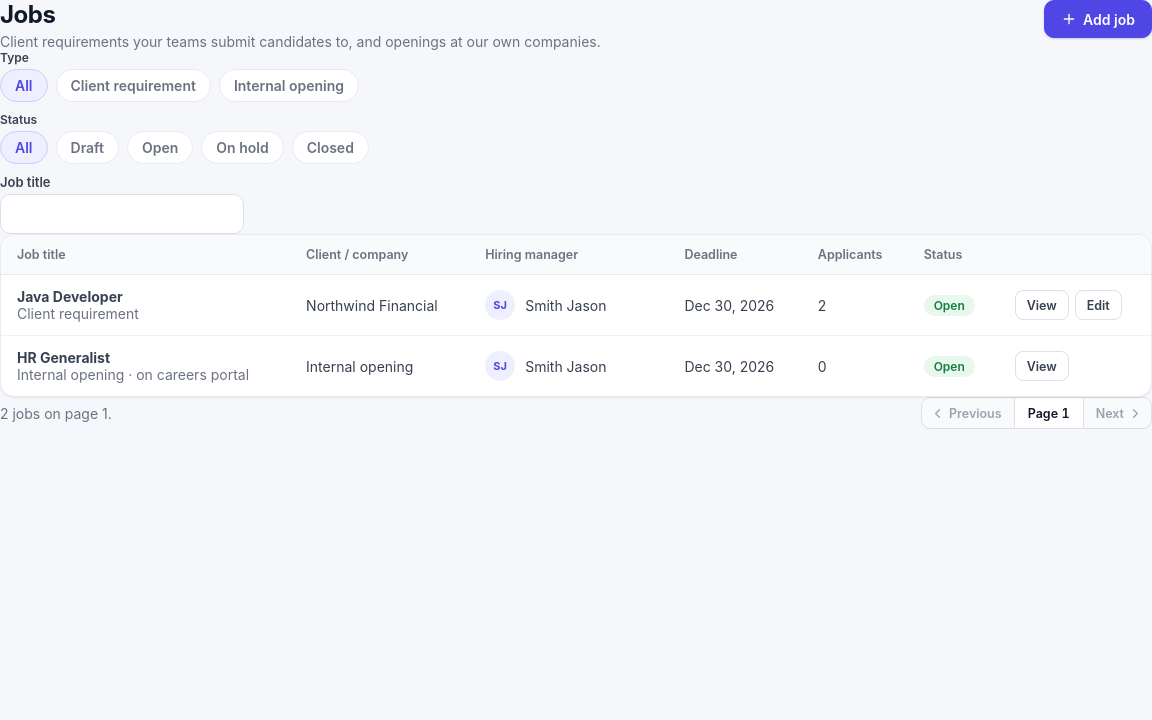
Test: Jobs page › edits with If-Match and explains a stale version
Step 1. Click the button with aria-label "Edit job Java Developer" → (1098, 305), box [1075,290,1122,320]
(page scrolled)
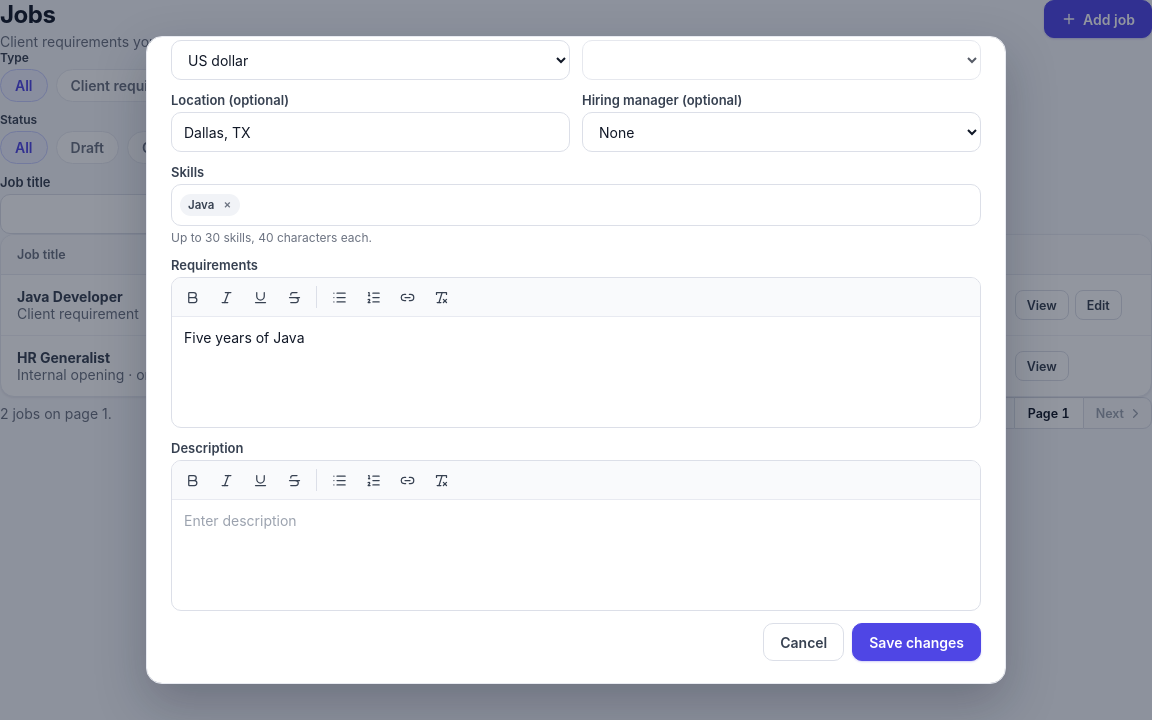
Step 2. Click the button "Save changes" → (917, 642), box [852,623,981,661]
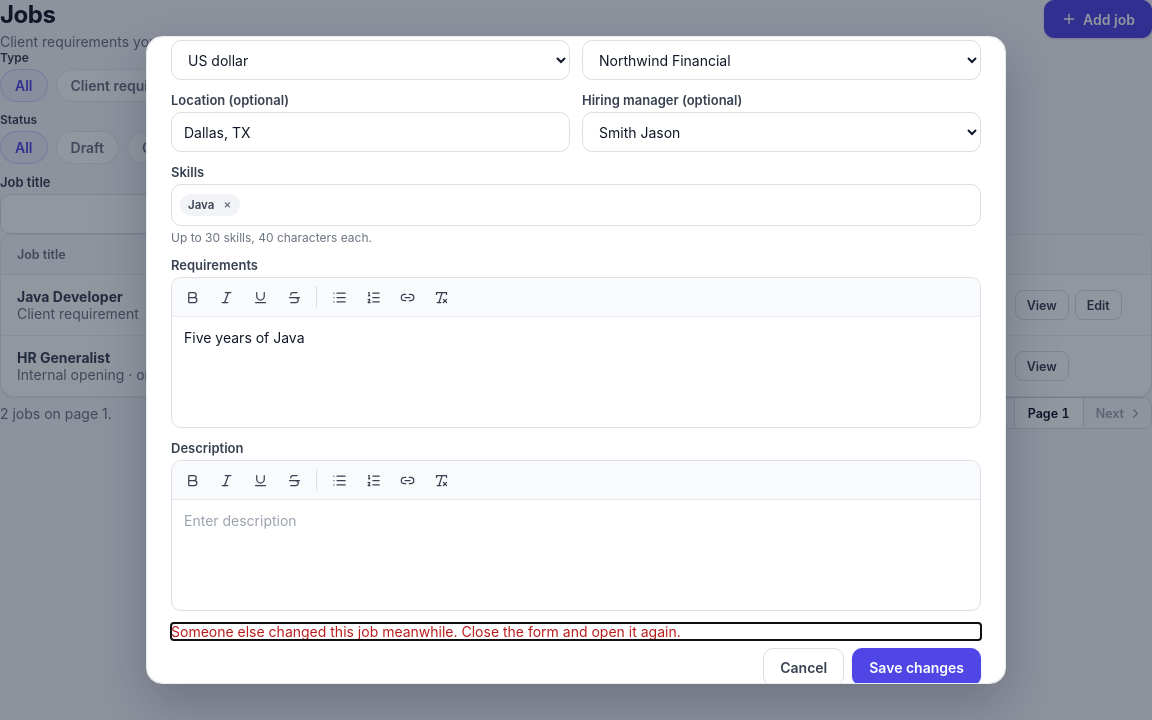
Check: the message shows "Someone else changed this job", box [171,623,681,640]
